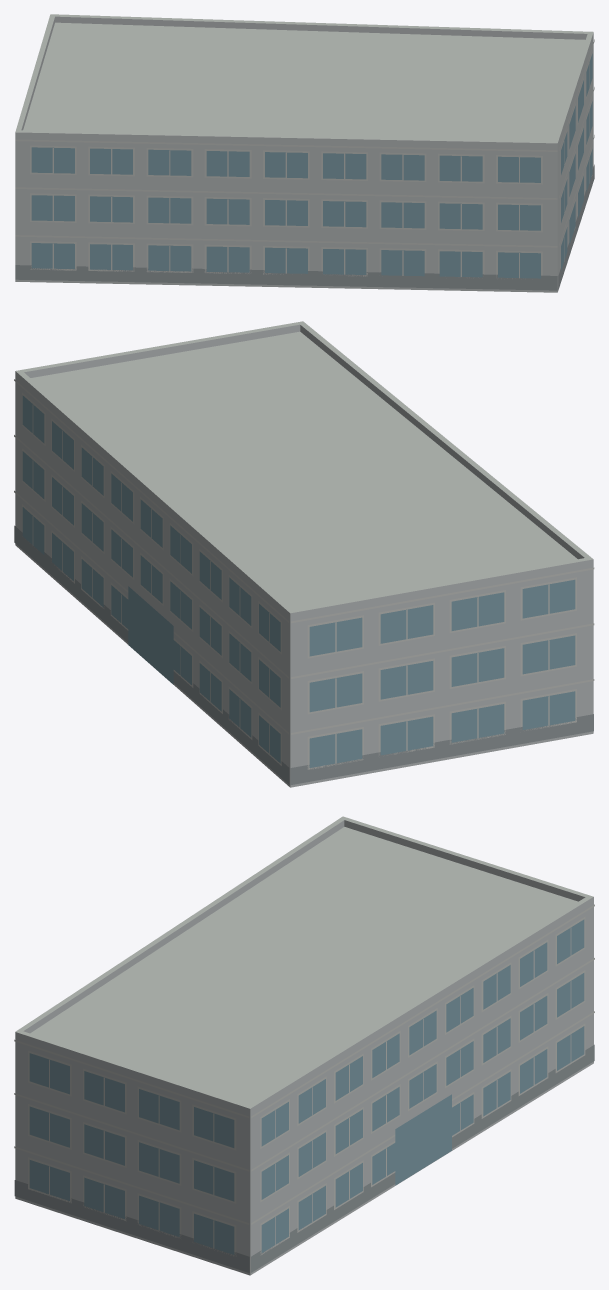
The model's file is public-2c7f44ac-3df1-4e2b-9229-f7ea2b6ea3c0.glb.
3 views of the same model, one above another, from view 1: azimuth 30°, elevation 25°; view 2: azimuth 150°, elevation 25°; view 3: azimuth 270°, elevation 25° (orthographic). The views are drawn at different scales.
Parts seen in each view (by area): view 1: public-2c7f44ac-3df1-4e2b-9229-f7ea2b6ea3c0; view 2: public-2c7f44ac-3df1-4e2b-9229-f7ea2b6ea3c0; view 3: public-2c7f44ac-3df1-4e2b-9229-f7ea2b6ea3c0.
Boxes of the visible parts, x1,y1,x2,y2 form: public-2c7f44ac-3df1-4e2b-9229-f7ea2b6ea3c0: [15, 14, 594, 292]; public-2c7f44ac-3df1-4e2b-9229-f7ea2b6ea3c0: [14, 321, 594, 787]; public-2c7f44ac-3df1-4e2b-9229-f7ea2b6ea3c0: [14, 816, 594, 1275].
Size of the model in its own units: 34.53 by 9.15 by 28.89.
